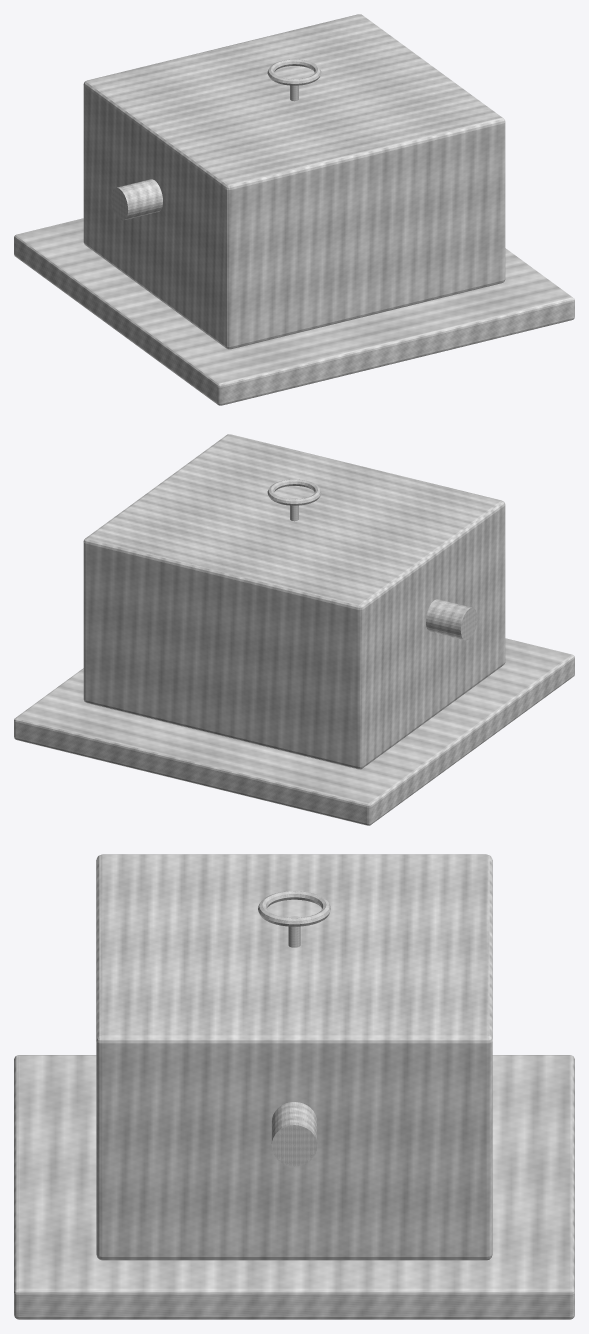
The model's file is valve_variant_c.glb.
3 views of the same model, one above another, from view 1: azimuth 30°, elevation 25°; view 2: azimuth 150°, elevation 25°; view 3: azimuth 270°, elevation 25° (orthographic). The views are drawn at different scales.
Visible parts, largest first — view 1: Equipment body.002, Foundation.002, Valve pipe.002, Valve wheel.002; view 2: Equipment body.002, Foundation.002, Valve pipe.002, Valve wheel.002; view 3: Equipment body.002, Foundation.002, Valve pipe.002, Valve wheel.002.
Part boxes in pixels (x1,y1,x2,y2): Equipment body.002: (83, 14, 505, 349); Foundation.002: (14, 218, 574, 405); Valve pipe.002: (111, 179, 162, 220); Valve wheel.002: (267, 59, 321, 85); Equipment body.002: (83, 434, 505, 769); Foundation.002: (14, 638, 574, 825); Valve pipe.002: (426, 599, 477, 640); Valve wheel.002: (267, 479, 321, 505); Equipment body.002: (96, 854, 492, 1260); Foundation.002: (14, 1055, 574, 1319); Valve pipe.002: (271, 1102, 317, 1166); Valve wheel.002: (258, 891, 330, 926).
Size of what is drawn, in the model's own units: 7.36 by 4.31 by 7.36.
5 materials, 5 textured.
